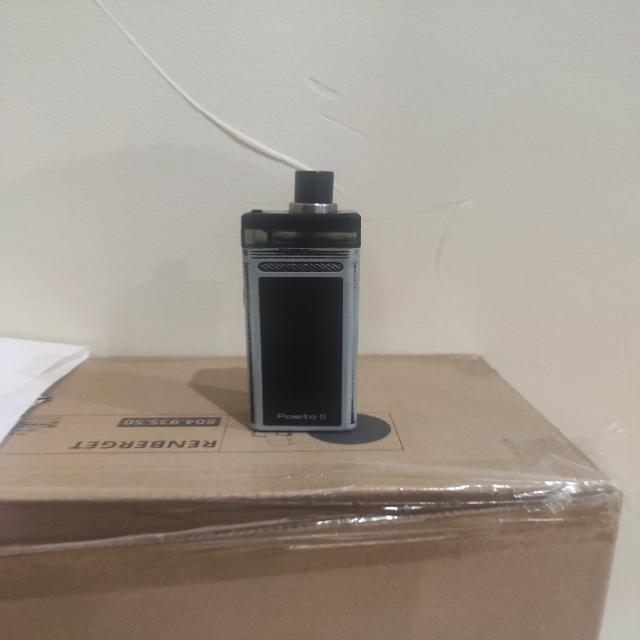cigaret: (235, 161, 364, 436)
